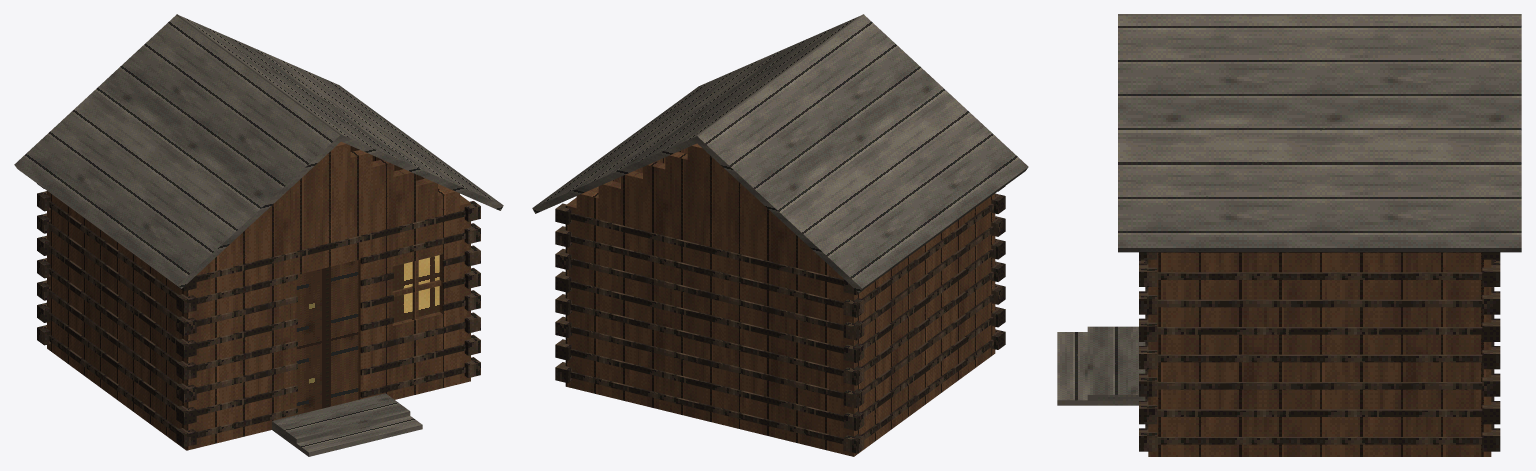
Rendered from cabana.obj.
The picture shows the model from 3 angles, left to right: view 1: azimuth 30°, elevation 25°; view 2: azimuth 150°, elevation 25°; view 3: azimuth 270°, elevation 25°; orthographic projection. The views are drawn at different scales.
Parts seen in each view (by area): view 1: cabana; view 2: cabana; view 3: cabana.
Part boxes in pixels (<box>): cabana: <box>14,14,503,456</box>; cabana: <box>532,14,1028,456</box>; cabana: <box>1057,14,1521,456</box>.
Size of the model in its own units: 4.58 by 3.91 by 4.6.
5 materials, 5 textured.
